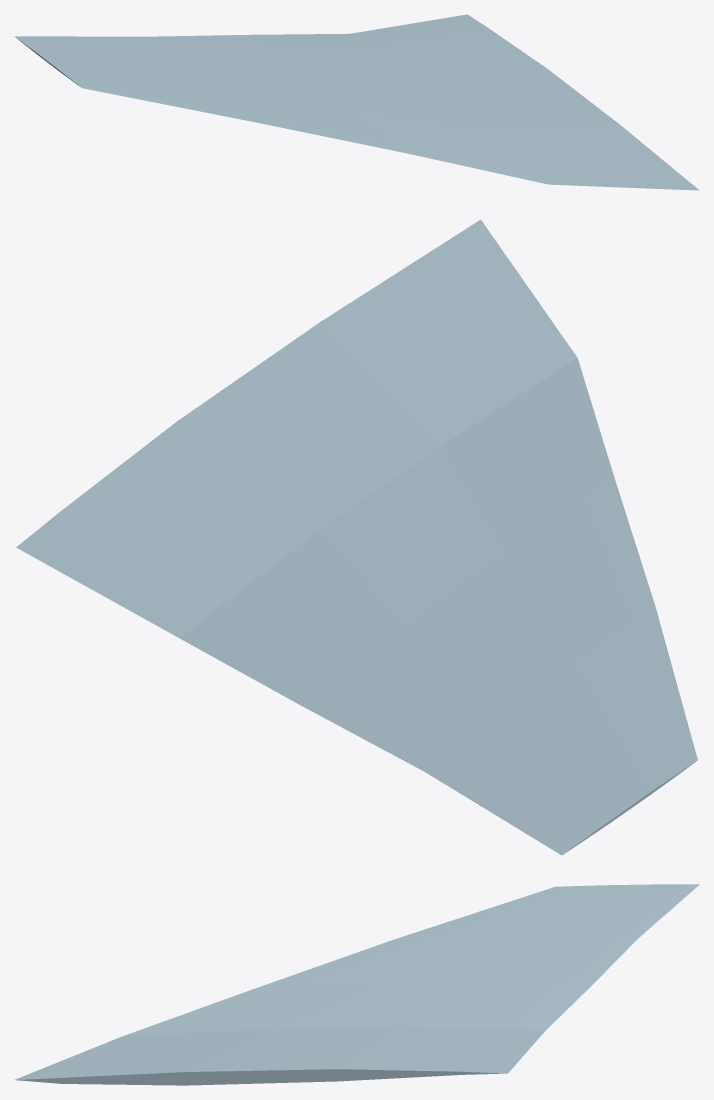
The model's file is su33d_canard_right.glb.
The picture shows the model from 3 angles, top to bottom: view 1: azimuth 30°, elevation 25°; view 2: azimuth 150°, elevation 25°; view 3: azimuth 270°, elevation 25°; orthographic projection. The views are drawn at different scales.
Visible parts, largest first — view 1: 0_CanardRight; view 2: 0_CanardRight; view 3: 0_CanardRight.
Boxes of the visible parts, bbox=[...] form: 0_CanardRight: bbox=[14, 14, 699, 190]; 0_CanardRight: bbox=[16, 219, 697, 855]; 0_CanardRight: bbox=[15, 884, 699, 1085].
Bounding box in the file's own units: 1.49 × 0.085 × 2.3.
